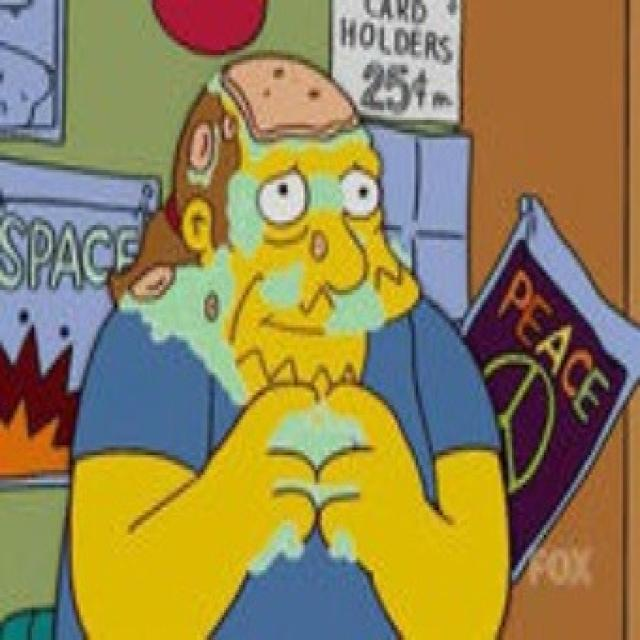Comic Book Guy: (146, 51, 430, 409)
